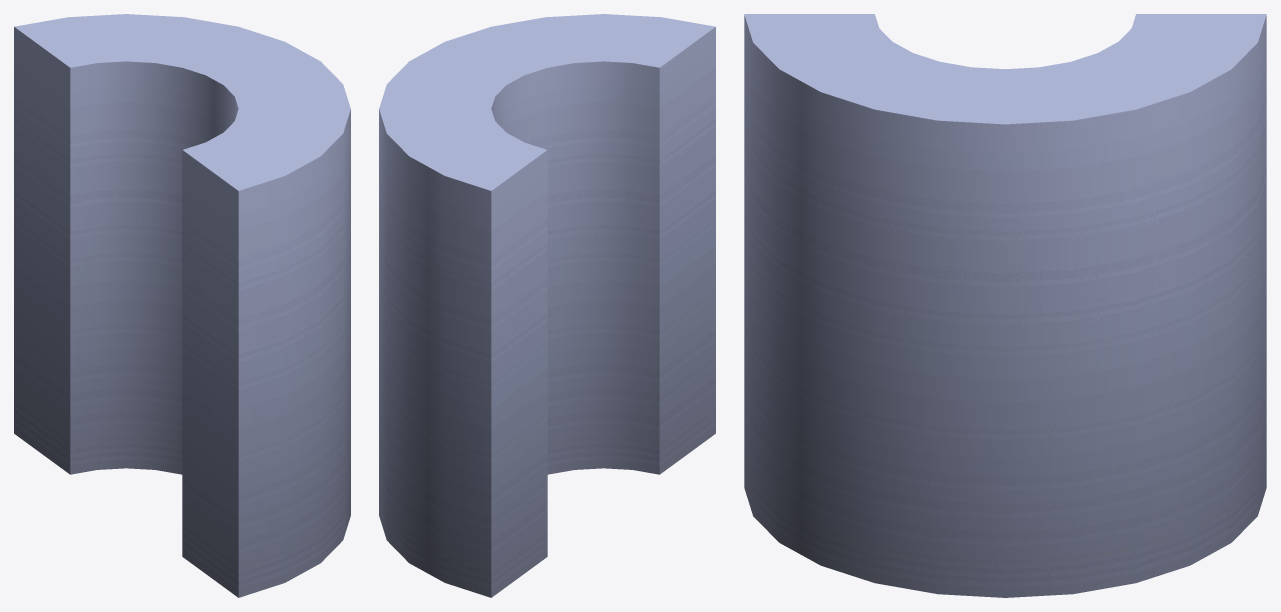
Rendered from shape-hollow-cylinder-half-detailed.glb.
3 views of the same model, side by side, from view 1: azimuth 30°, elevation 25°; view 2: azimuth 150°, elevation 25°; view 3: azimuth 270°, elevation 25° (orthographic). The views are drawn at different scales.
Visible parts, largest first — view 1: shape-hollow-cylinder-half-detailed; view 2: shape-hollow-cylinder-half-detailed; view 3: shape-hollow-cylinder-half-detailed.
Part boxes in pixels (left/top/right/bottom): shape-hollow-cylinder-half-detailed: left=14, top=14, right=350, bottom=597; shape-hollow-cylinder-half-detailed: left=379, top=14, right=715, bottom=597; shape-hollow-cylinder-half-detailed: left=744, top=14, right=1266, bottom=597.
Bounding box in the file's own units: 0.5 × 1 × 1.
1 material, 1 textured.
